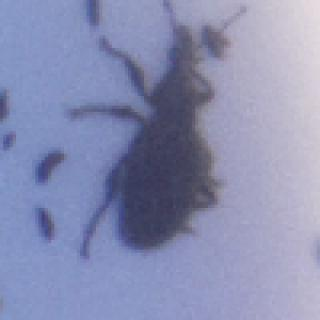bvw: (68, 1, 250, 259)
